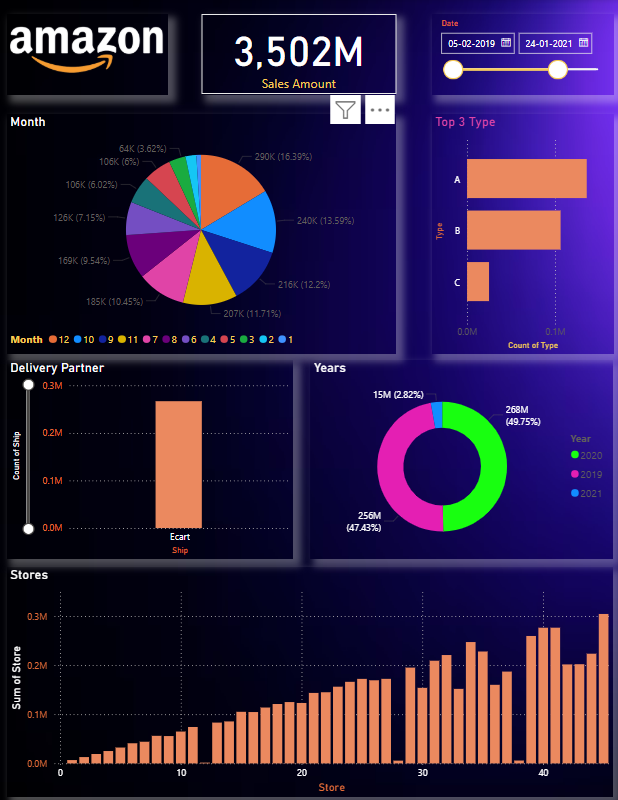

The page's visual inventory and layout, read from the dashboard file:
{"tool":"powerbi","page":{"name":"Page 1","canvas":[816,1056],"ordinal":0},"visuals":[{"type":"image","box":[10,19,212,106],"z":0},{"type":"card","fields":{"Values":["Sum(amazon_sales_dataset (2).Weekly_Sales)"]},"box":[265,19,255,106],"z":1000},{"type":"slicer","fields":{"Values":["amazon_sales_dataset (2).Date"]},"box":[566,19,239,106],"z":2000},{"type":"barChart","title":"Top 3 Type","fields":{"Category":["amazon_sales_dataset (2).Type"],"Y":["CountNonNull(amazon_sales_dataset (2).Type)"]},"box":[566,150,239,314],"z":3000},{"type":"pieChart","title":"Month","fields":{"Category":["amazon_sales_dataset (2).Month"],"Y":["Sum(amazon_sales_dataset (2).Month)"]},"box":[10,150,510,314],"z":4000},{"type":"columnChart","title":"Delivery Partner","fields":{"Category":["amazon_sales_dataset (2).Ship"],"Y":["CountNonNull(amazon_sales_dataset (2).Ship)"]},"box":[10,474,376,260],"z":5000},{"type":"clusteredColumnChart","title":"Stores","fields":{"Y":["Sum(amazon_sales_dataset (2).Store)"],"Category":["amazon_sales_dataset (2).Store"]},"box":[10,744,795,302],"z":6000},{"type":"donutChart","title":"Years","fields":{"Y":["Sum(amazon_sales_dataset (2).Year)"],"Category":["amazon_sales_dataset (2).Year"]},"box":[408,474,397,260],"z":7000}]}

Visuals, with their boxes in screenshot pixels (x1, y1, x2, y2), scaled from the page's 816x1056 canvas onto the 618x800 screenshot:
image: 8 14 168 95
card - Sum(amazon_sales_dataset (2).Weekly_Sales): 201 14 394 95
slicer - amazon_sales_dataset (2).Date: 429 14 610 95
"Top 3 Type" barChart: 429 114 610 352
"Month" pieChart: 8 114 394 352
"Delivery Partner" columnChart: 8 359 292 556
"Stores" clusteredColumnChart: 8 564 610 792
"Years" donutChart: 309 359 610 556
